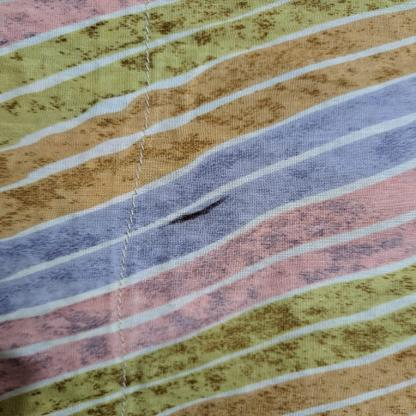spot: (153, 189, 245, 234)
